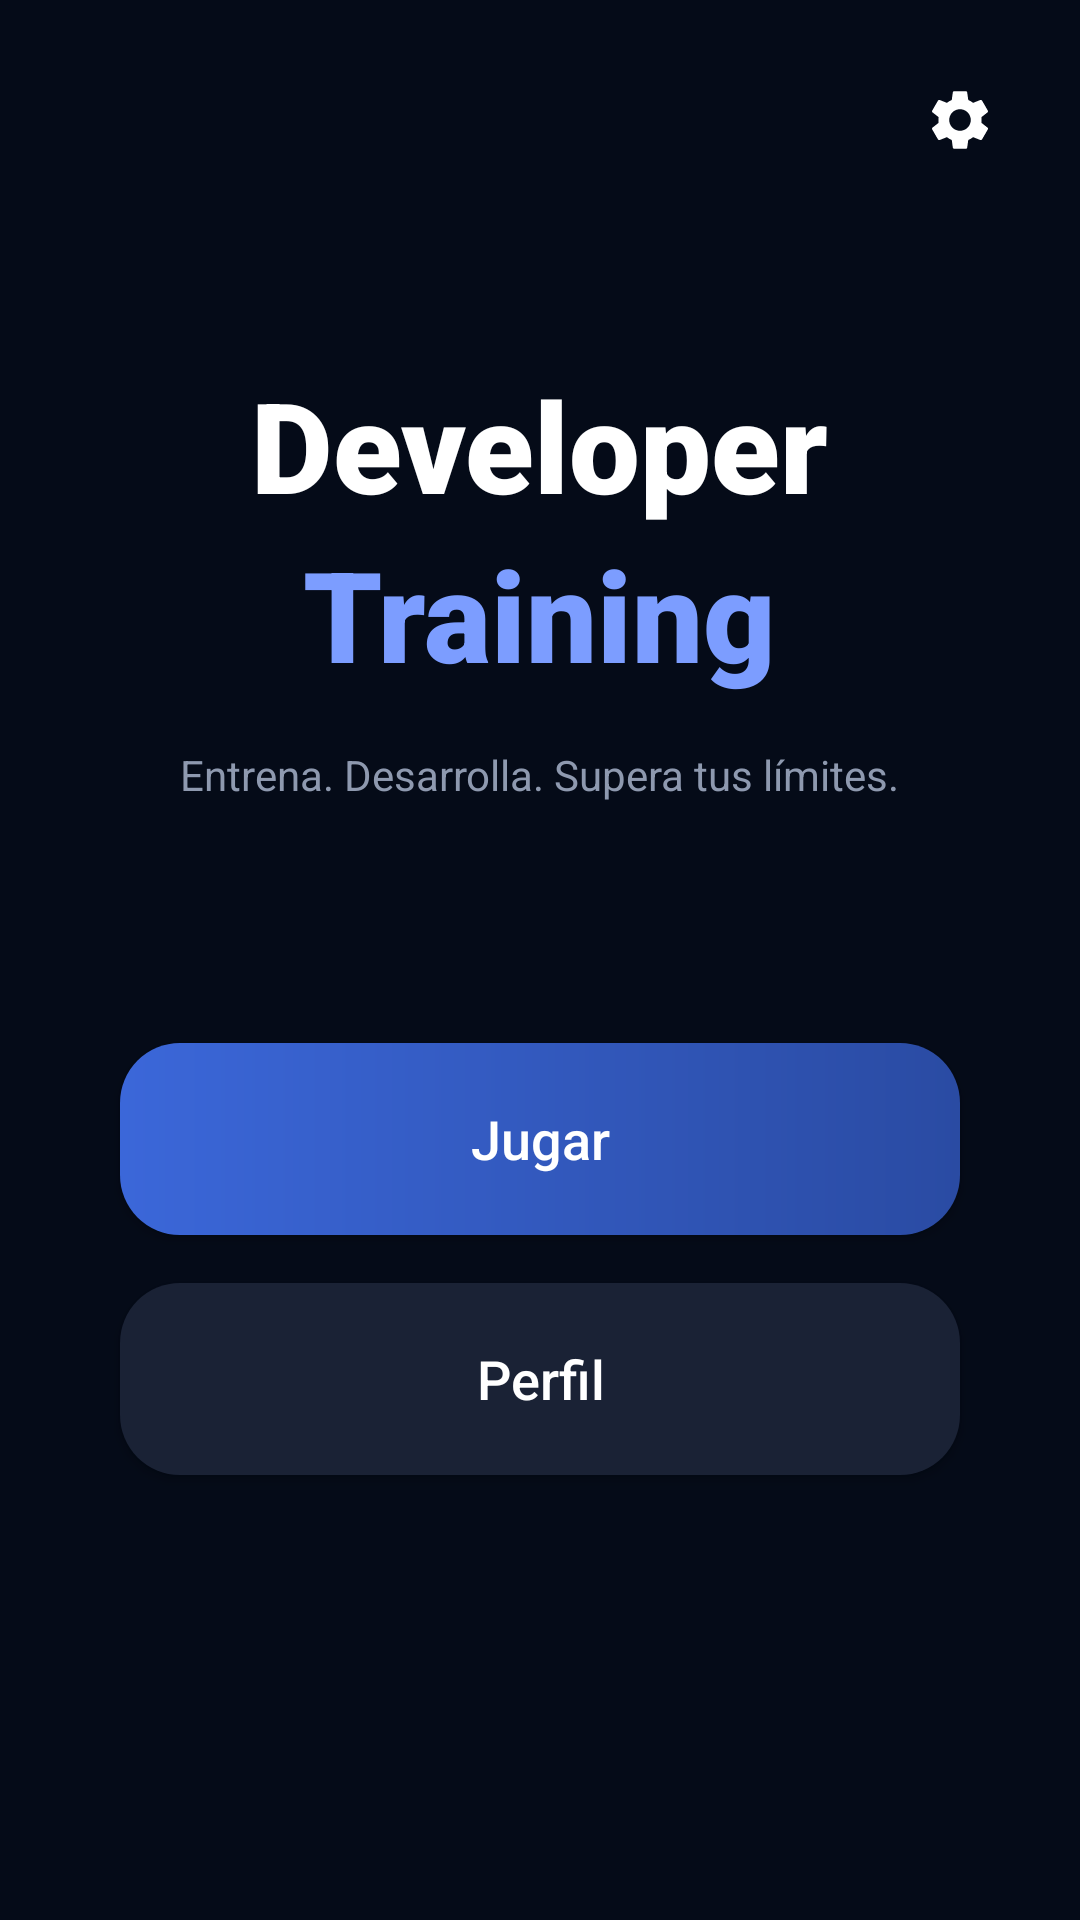

Icons on this 1080 × 1920 Android screen, each with its box as {"x1": x1, "y1": y1, "x2": x2, "y2": y2}:
settings: {"x1": 932, "y1": 91, "x2": 988, "y2": 149}
